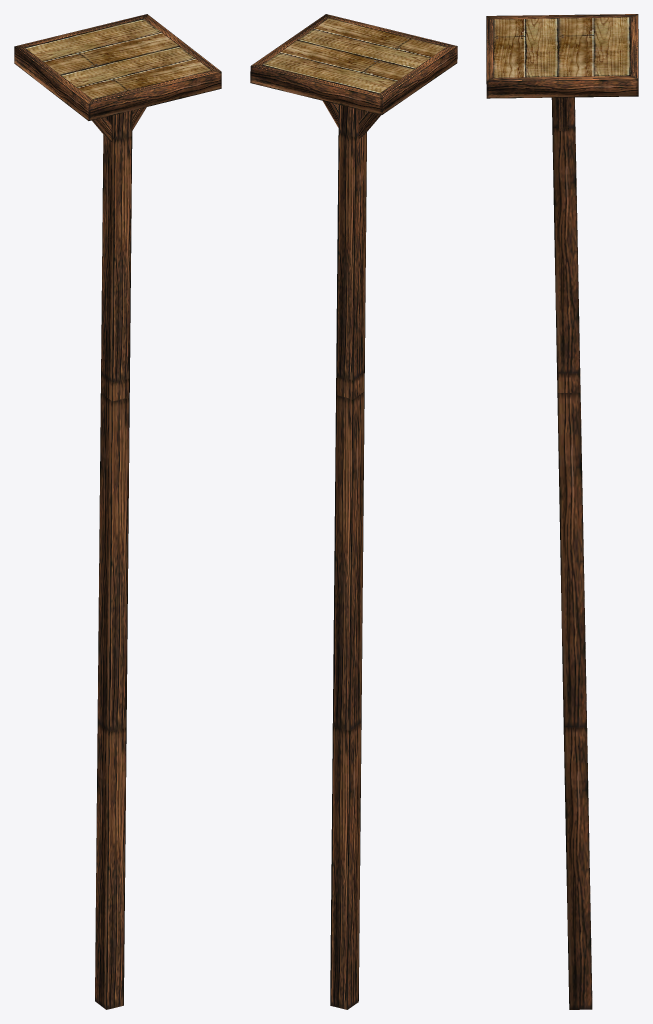
The model's file is INST_WH_PLATBEAM_01.fbx.
3 renders of one model, left to right at view 1: azimuth 30°, elevation 25°; view 2: azimuth 150°, elevation 25°; view 3: azimuth 270°, elevation 25°, orthographic.
Parts seen in each view (by area): view 1: INST_WH_PLATBEAM_01; view 2: INST_WH_PLATBEAM_01; view 3: INST_WH_PLATBEAM_01.
Boxes of the visible parts, left/top/right/bottom form: INST_WH_PLATBEAM_01: left=14, top=14, right=221, bottom=1009; INST_WH_PLATBEAM_01: left=250, top=14, right=457, bottom=1009; INST_WH_PLATBEAM_01: left=486, top=14, right=638, bottom=1009.
Size of the model in its own units: 15995 by 108777 by 15641.
Materials: 2 (2 with a texture image).
